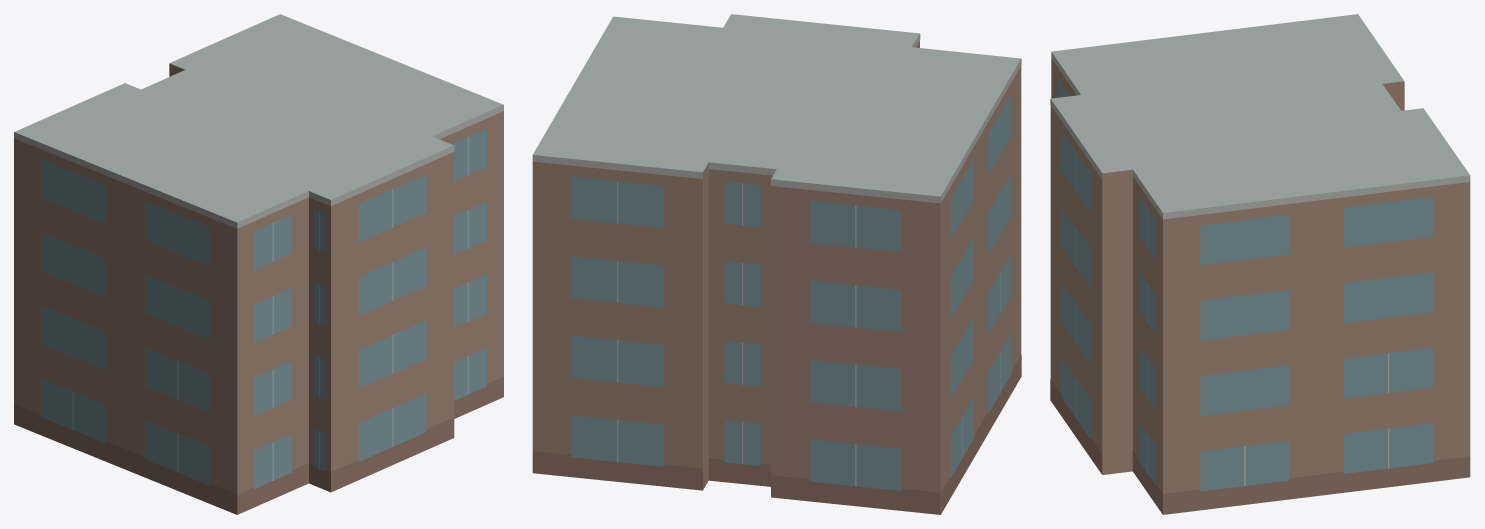
Rendered from survey-upis-32621277.glb.
3 renders of one model, left to right at view 1: azimuth 30°, elevation 25°; view 2: azimuth 150°, elevation 25°; view 3: azimuth 270°, elevation 25°, orthographic. The views are drawn at different scales.
Parts seen in each view (by area): view 1: survey-upis-32621277.tmp; view 2: survey-upis-32621277.tmp; view 3: survey-upis-32621277.tmp.
Part boxes in pixels (x1,y1,x2,y2): survey-upis-32621277.tmp: (14,14,503,514); survey-upis-32621277.tmp: (532,14,1021,514); survey-upis-32621277.tmp: (1050,14,1470,514).
Size of the model in its own units: 16.34 by 11.54 by 14.56.
